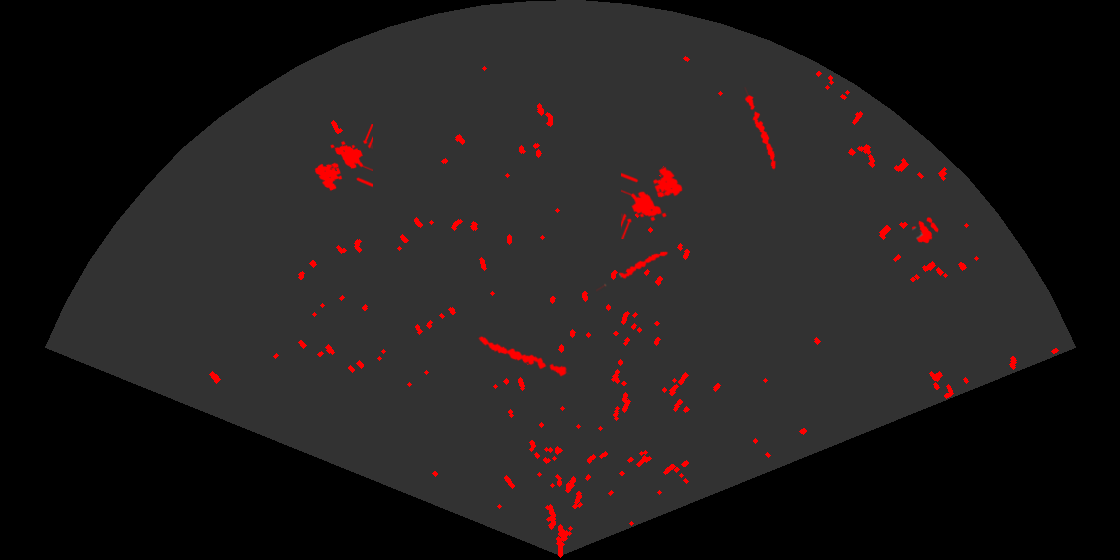ball: (910, 216, 940, 245)
cage: (621, 165, 684, 239), (313, 124, 373, 193)
chain: (476, 334, 570, 378), (596, 250, 670, 293), (743, 87, 778, 171)
